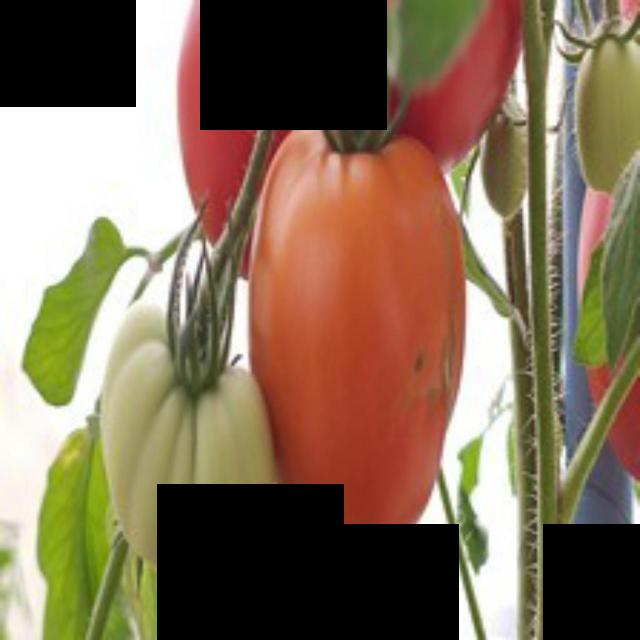tomato: (250, 130, 474, 570)
